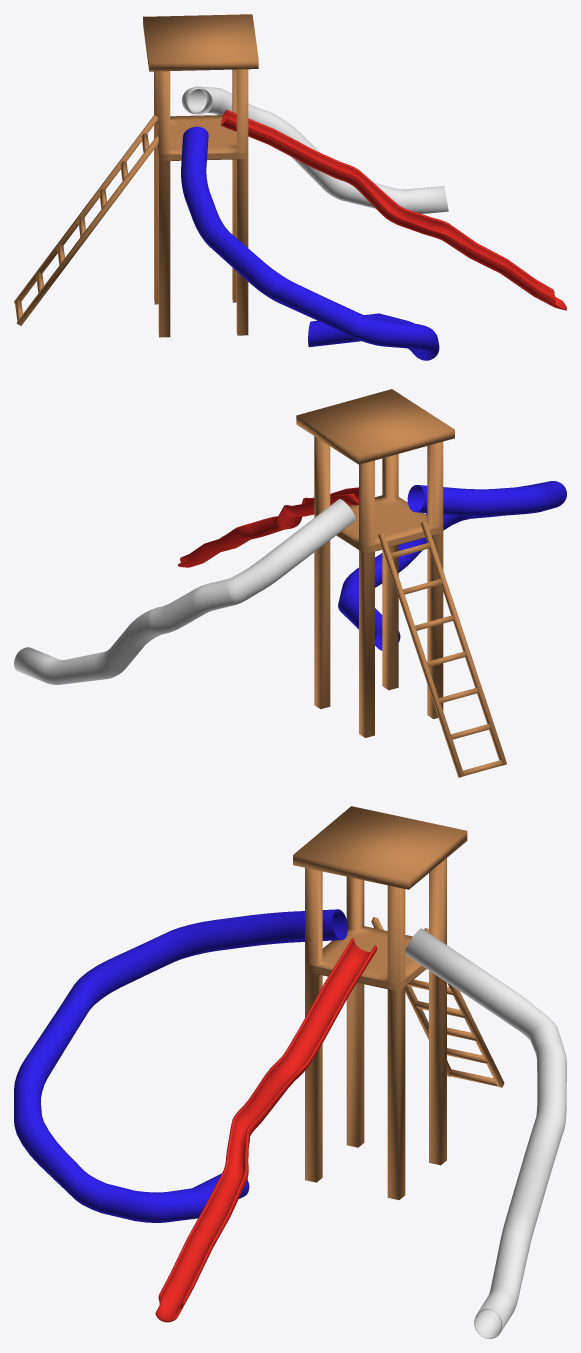
File: VRRutscheGefärbt.fbx
The picture shows the model from 3 angles, top to bottom: view 1: azimuth 30°, elevation 25°; view 2: azimuth 150°, elevation 25°; view 3: azimuth 270°, elevation 25°; orthographic projection. The views are drawn at different scales.
Visible parts, largest first — view 1: Rutsche; view 2: Rutsche; view 3: Rutsche.
Part boxes in pixels (bbox=[...]): Rutsche: bbox=[14, 14, 566, 360]; Rutsche: bbox=[14, 389, 566, 777]; Rutsche: bbox=[14, 806, 566, 1338].
Size of the model in its own units: 4268 by 2514 by 3840.
